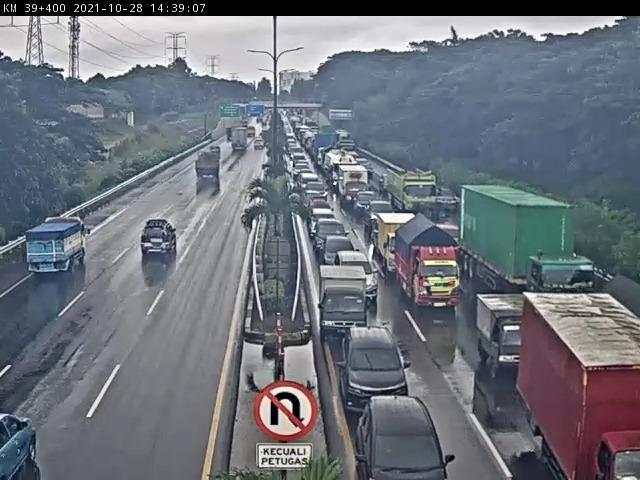car: (352, 392, 456, 480), (340, 320, 415, 407), (1, 400, 45, 480), (334, 244, 381, 310), (140, 219, 182, 263), (314, 218, 353, 258), (364, 201, 400, 234), (307, 207, 340, 241), (325, 237, 363, 266), (356, 190, 383, 221), (304, 183, 331, 208), (308, 196, 335, 219), (300, 173, 323, 194), (294, 160, 313, 180), (253, 138, 265, 153), (209, 145, 222, 158)
truck: (513, 278, 640, 480), (456, 183, 603, 312), (391, 213, 464, 313), (467, 283, 536, 373), (14, 213, 88, 286), (318, 263, 370, 339), (384, 160, 443, 219), (376, 210, 427, 272), (335, 160, 371, 206), (193, 151, 226, 183), (231, 128, 252, 151)
